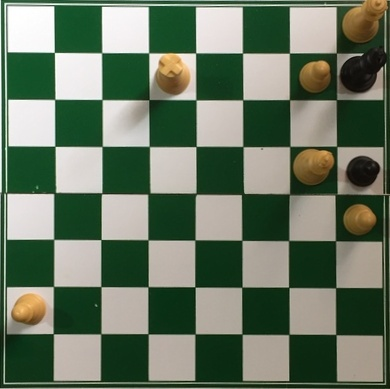black-king: (338, 43, 388, 94)
black-pawn: (344, 153, 380, 189)
white-king: (290, 147, 336, 186)
white-pawn: (9, 291, 47, 327), (296, 57, 332, 95), (341, 202, 378, 238)
white-queen: (339, 1, 388, 47)
white-rook: (155, 51, 191, 95)
